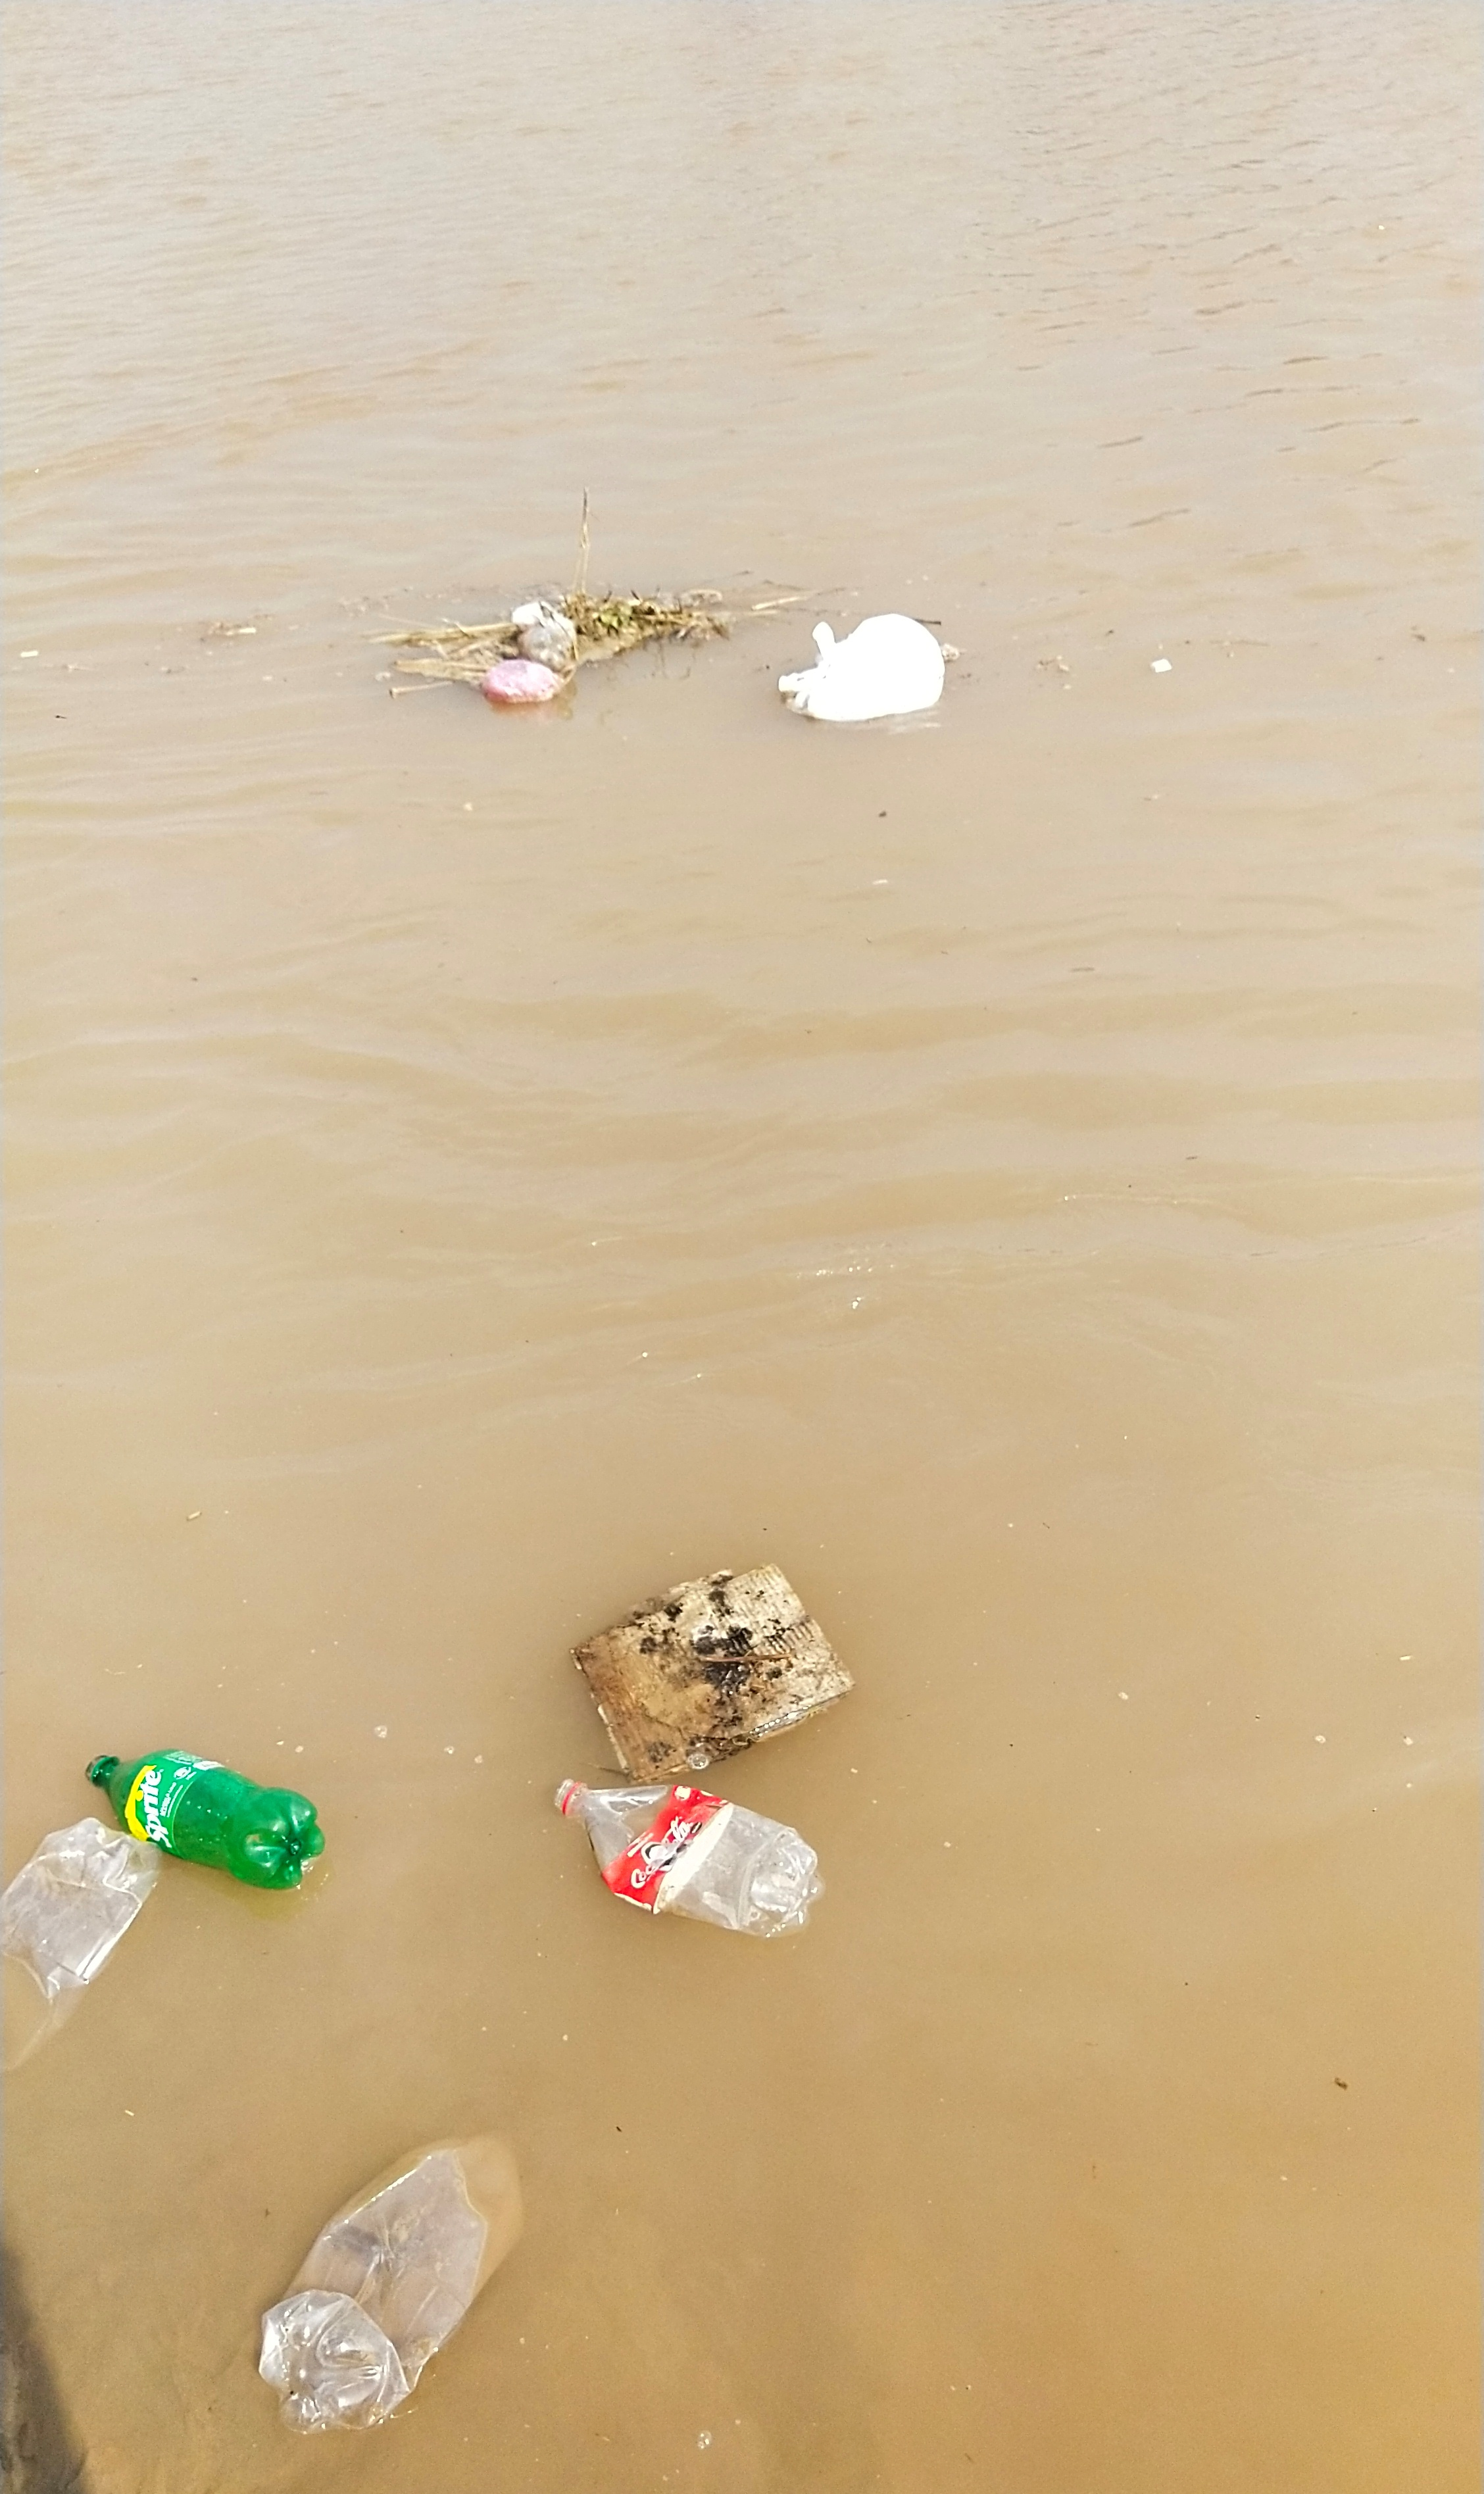Plastic Bottle: (256, 2134, 528, 2434), (555, 1777, 825, 1938), (0, 1816, 163, 2047), (83, 1749, 325, 1890), (518, 627, 571, 671)
